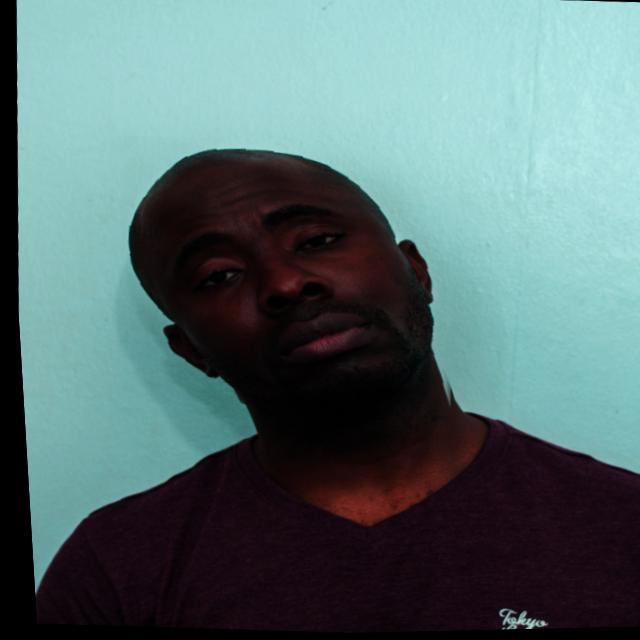sad: (102, 132, 466, 422)
